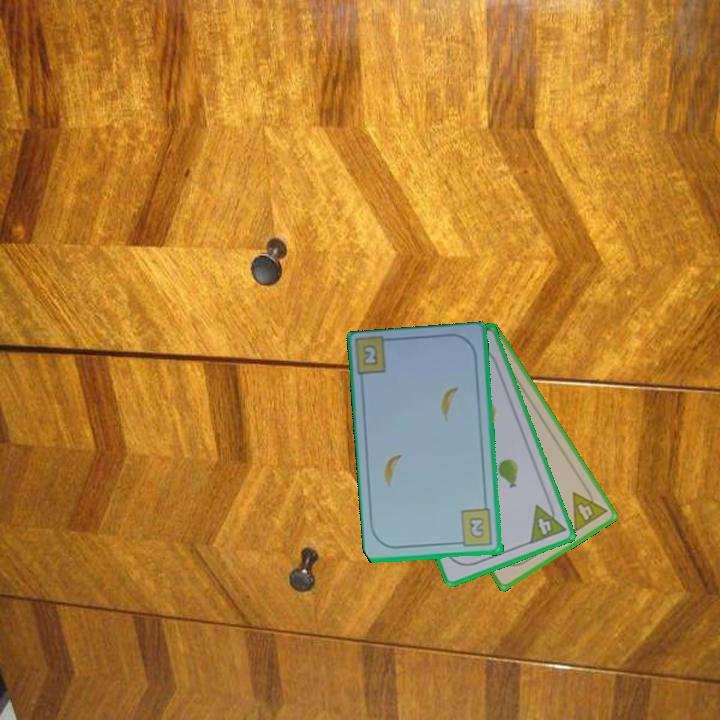2b: (453, 506, 495, 550), (359, 341, 381, 369)
4p: (569, 482, 610, 535), (526, 497, 569, 547)
